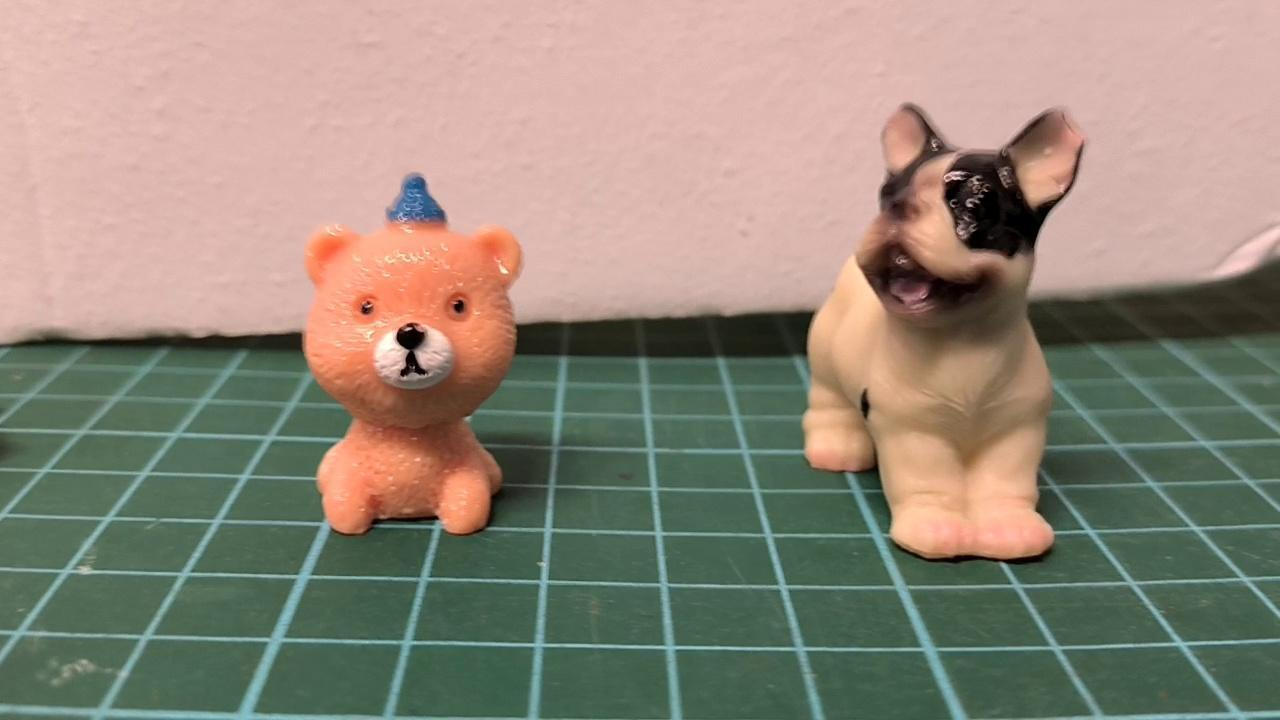pet: (802, 102, 1087, 561), (302, 175, 525, 539)
